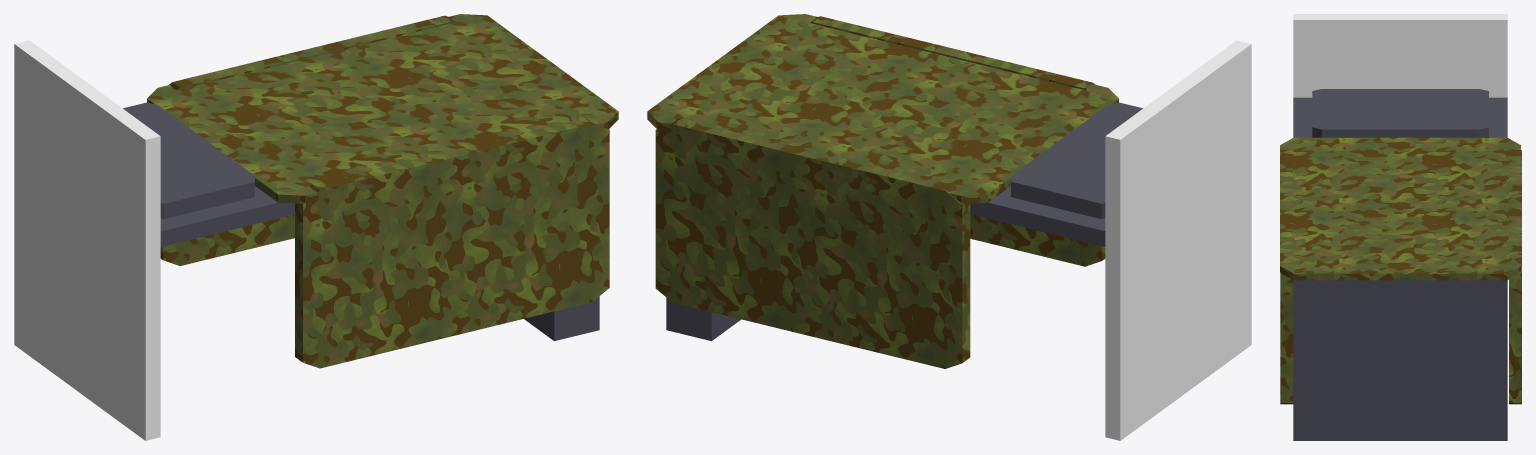
File: Bed.obj
The picture shows the model from 3 angles, left to right: view 1: azimuth 30°, elevation 25°; view 2: azimuth 150°, elevation 25°; view 3: azimuth 270°, elevation 25°; orthographic projection. The views are drawn at different scales.
Bounding box in the file's own units: 3.12 × 1.9 × 1.69.
Materials: 4 (1 with a texture image).
